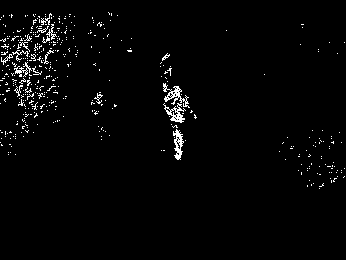person: (162, 84, 197, 160)
